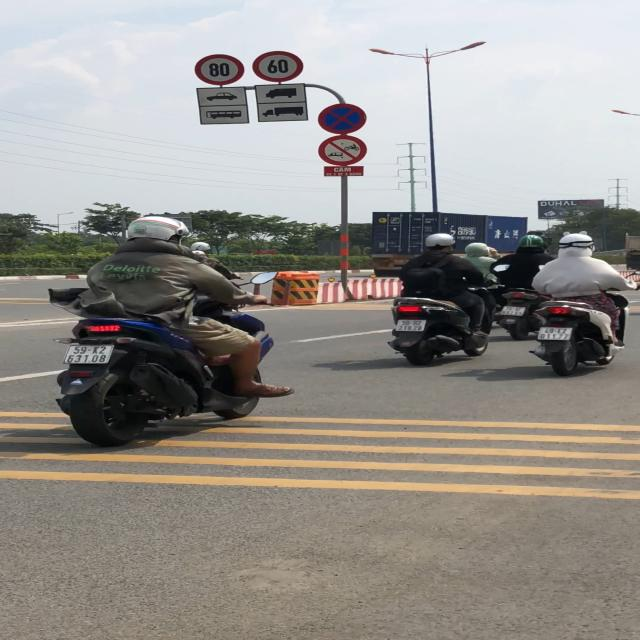Bien bao cam dung xe va do xe: (316, 101, 368, 136)
Bien bao toc do toi da cho phep: (249, 49, 308, 84), (191, 52, 246, 88)
